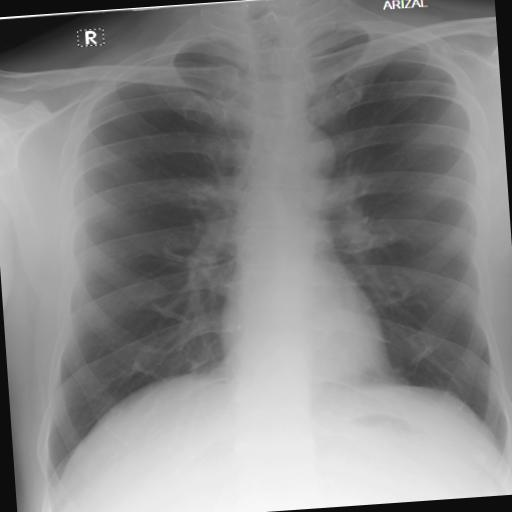normal: (1, 2, 512, 498)
